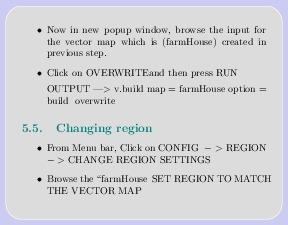paragraph: (44, 12, 276, 109), (46, 135, 275, 200)
subtitle: (54, 116, 158, 139)
